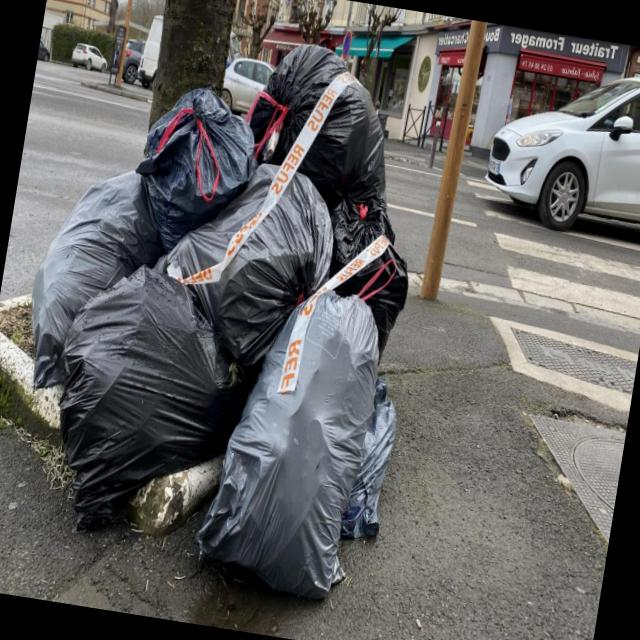garbage: (0, 0, 448, 618)
